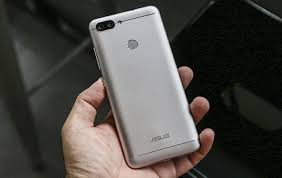asus: (81, 4, 201, 162)
